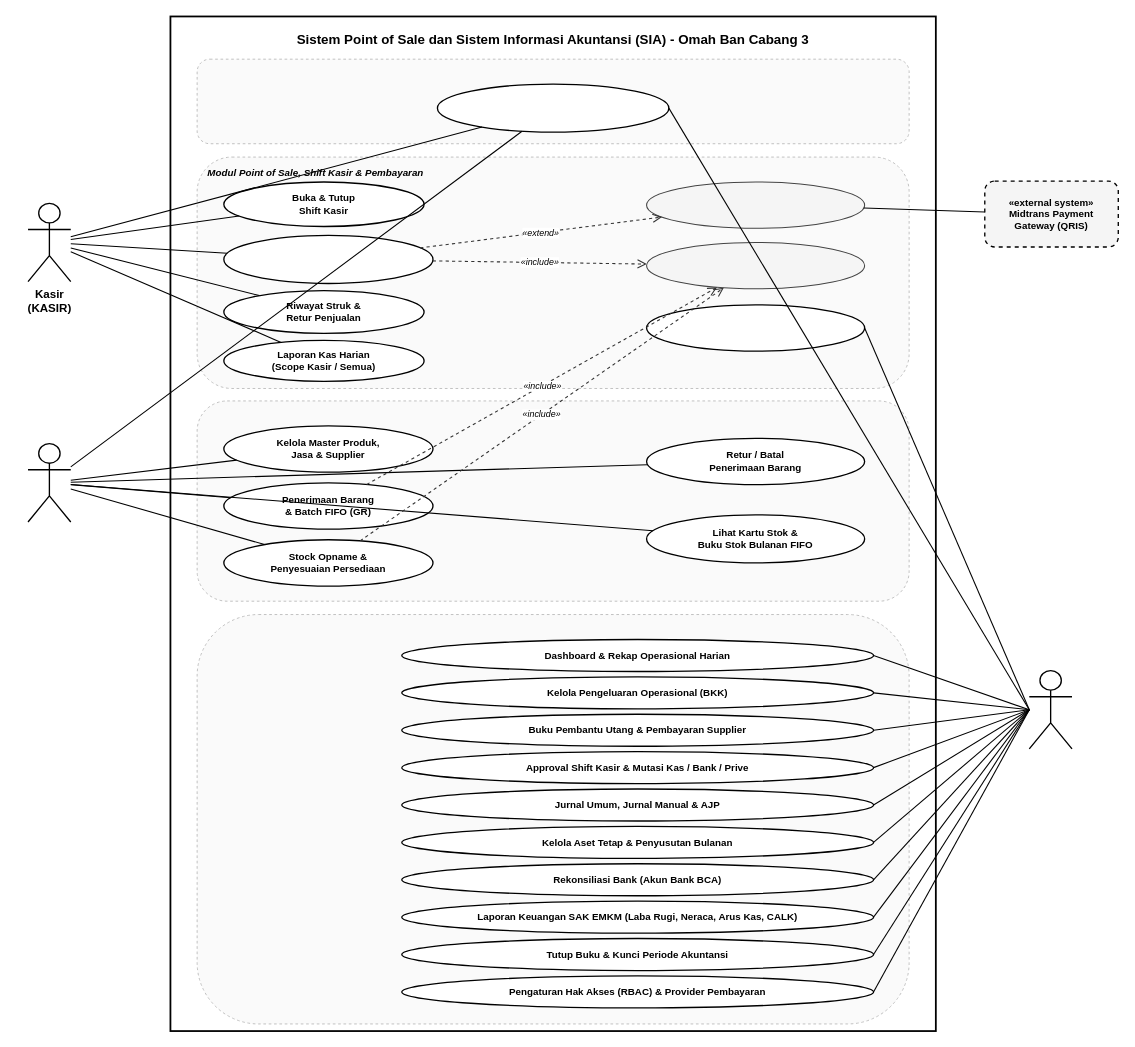
Some shapes in this 1135 by 1047 pixel diagram are drawn without their labels. Here are the shapes that lost their labels. From the top down, the box of each, then its label:
(196, 58, 909, 144): Autentikasi & Kontrol Akses
(436, 83, 669, 132): Login & Autentikasi (Sanctum + RBAC)
(646, 181, 865, 228): Pembayaran QRIS Dinamis & Webhook
(223, 234, 433, 284): Transaksi Point of Sale (Tunai / Transfer / QRIS)
(646, 242, 865, 289): Alokasi HPP FIFO & Jurnal Otomatis
(646, 304, 865, 351): Pembatalan Transaksi (Void Nota)
(27, 443, 71, 522): Staf Gudang (GUDANG)
(196, 400, 909, 601): Modul Persediaan FIFO & Pengadaan
(1028, 670, 1072, 749): Owner (OWNER)
(196, 614, 909, 1024): Modul Pusat Akuntansi SAK EMKM & Pengendalian Internal (Khusus Owner)
